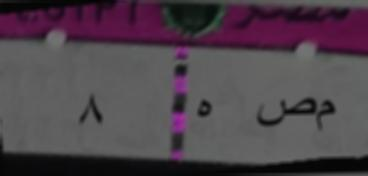8: (74, 88, 108, 136)
haa: (190, 90, 217, 126)
meem: (316, 90, 338, 136)
saad: (252, 90, 314, 134)
